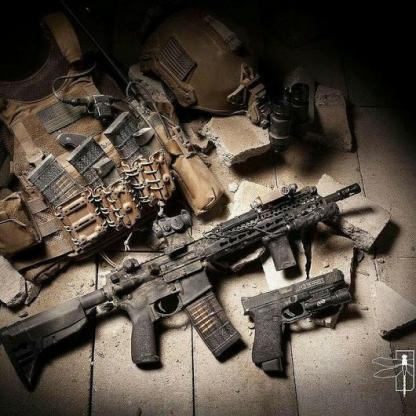Grenade: (266, 95, 294, 156), (292, 80, 309, 139)
Gun: (1, 179, 362, 396)
Pistol: (239, 267, 352, 375)
